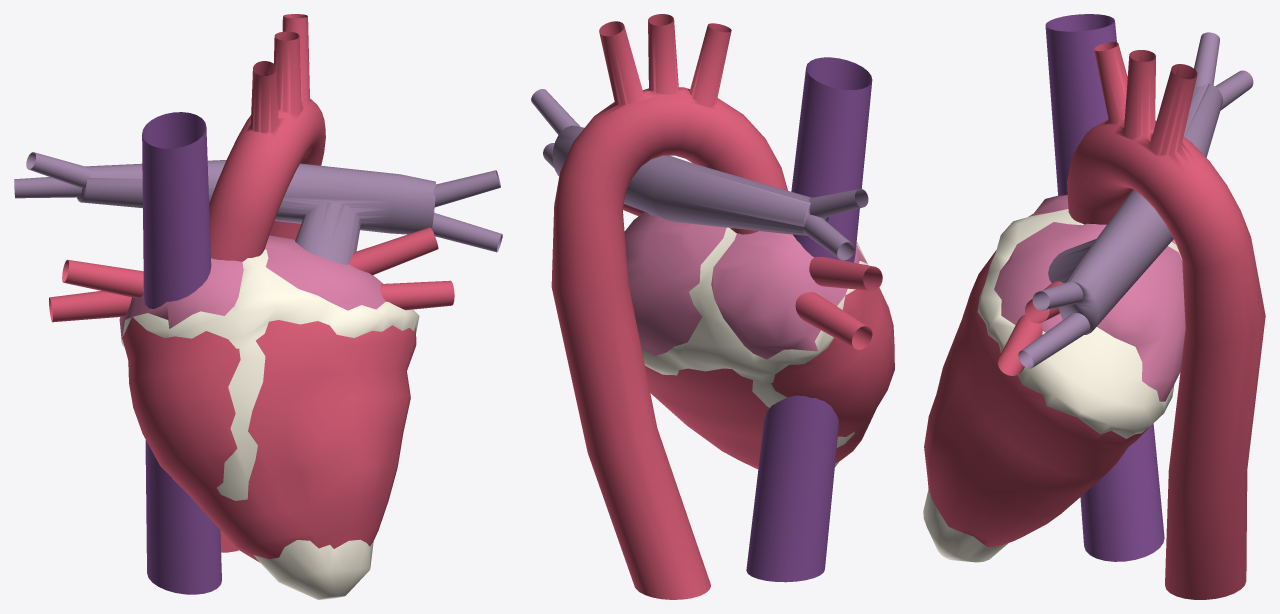
Rendered from human_heart.glb.
3 renders of one model, left to right at view 1: azimuth 30°, elevation 25°; view 2: azimuth 150°, elevation 25°; view 3: azimuth 270°, elevation 25°, orthographic. The views are drawn at different scales.
Parts seen in each view (by area): view 1: Mesh3_Cladding_Siding_White_0, Mesh4_Color_I02_0, Mesh3_Color_D05_0, Mesh11_Cladding_Siding_White_0, Mesh11__Color_A06_1_0, Mesh3_Color_A06_0, Mesh5_Cladding_Siding_White_0, Mesh7_Cladding_Siding_White_0, Mesh8_Cladding_Siding_White_0, Mesh6_Cladding_Siding_White_0, Mesh2__Color_A06_1_0, Mesh1__Color_A06_1_0 (+2 smaller); view 2: Mesh11_Cladding_Siding_White_0, Mesh4_Color_I02_0, Mesh3_Color_A06_0, Mesh3_Cladding_Siding_White_0, Mesh11__Color_A06_1_0, Mesh3_Color_D05_0, Mesh8_Cladding_Siding_White_0, Mesh7_Cladding_Siding_White_0, Mesh10__Color_A06_1_0, Mesh9__Color_A06_1_0, Mesh1__Color_A06_1_0; view 3: Mesh11_Cladding_Siding_White_0, Mesh3_Cladding_Siding_White_0, Mesh4_Color_I02_0, Mesh3_Color_D05_0, Mesh3_Color_A06_0, Mesh11__Color_A06_1_0, Mesh2__Color_A06_1_0, Mesh6_Cladding_Siding_White_0, Mesh9__Color_A06_1_0, Mesh1__Color_A06_1_0, Mesh10__Color_A06_1_0, Mesh5_Cladding_Siding_White_0.
Part boxes in pixels (box(x1,y1,x2,y2)): Mesh3_Cladding_Siding_White_0: box(122, 317, 416, 562); Mesh4_Color_I02_0: box(142, 112, 221, 594); Mesh3_Color_D05_0: box(122, 249, 419, 599); Mesh11_Cladding_Siding_White_0: box(209, 14, 325, 552); Mesh11__Color_A06_1_0: box(76, 160, 435, 264); Mesh3_Color_A06_0: box(119, 235, 385, 342); Mesh5_Cladding_Siding_White_0: box(349, 227, 438, 275); Mesh7_Cladding_Siding_White_0: box(62, 259, 143, 298); Mesh8_Cladding_Siding_White_0: box(49, 291, 131, 322); Mesh6_Cladding_Siding_White_0: box(380, 280, 454, 310); Mesh2__Color_A06_1_0: box(432, 212, 502, 252); Mesh1__Color_A06_1_0: box(433, 170, 500, 207); Mesh11_Cladding_Siding_White_0: box(551, 14, 787, 599); Mesh4_Color_I02_0: box(746, 57, 872, 582); Mesh3_Color_A06_0: box(624, 212, 867, 359); Mesh3_Cladding_Siding_White_0: box(645, 287, 894, 468); Mesh11__Color_A06_1_0: box(552, 125, 828, 235); Mesh3_Color_D05_0: box(641, 227, 867, 469); Mesh8_Cladding_Siding_White_0: box(795, 292, 872, 349); Mesh7_Cladding_Siding_White_0: box(809, 257, 882, 290); Mesh10__Color_A06_1_0: box(803, 214, 854, 260); Mesh9__Color_A06_1_0: box(808, 188, 868, 218); Mesh1__Color_A06_1_0: box(531, 89, 580, 134); Mesh11_Cladding_Siding_White_0: box(1067, 42, 1265, 599); Mesh3_Cladding_Siding_White_0: box(924, 250, 1148, 547); Mesh4_Color_I02_0: box(1045, 14, 1164, 561); Mesh3_Color_D05_0: box(923, 209, 1182, 562); Mesh3_Color_A06_0: box(994, 195, 1185, 401); Mesh11__Color_A06_1_0: box(1048, 83, 1222, 334); Mesh2__Color_A06_1_0: box(1018, 313, 1090, 368); Mesh6_Cladding_Siding_White_0: box(997, 314, 1042, 375); Mesh9__Color_A06_1_0: box(1194, 32, 1219, 86); Mesh1__Color_A06_1_0: box(1032, 281, 1083, 310); Mesh10__Color_A06_1_0: box(1215, 70, 1253, 110); Mesh5_Cladding_Siding_White_0: box(1025, 281, 1063, 323).
Bounding box in the file's own units: 0.0416 × 0.0514 × 0.0289.
